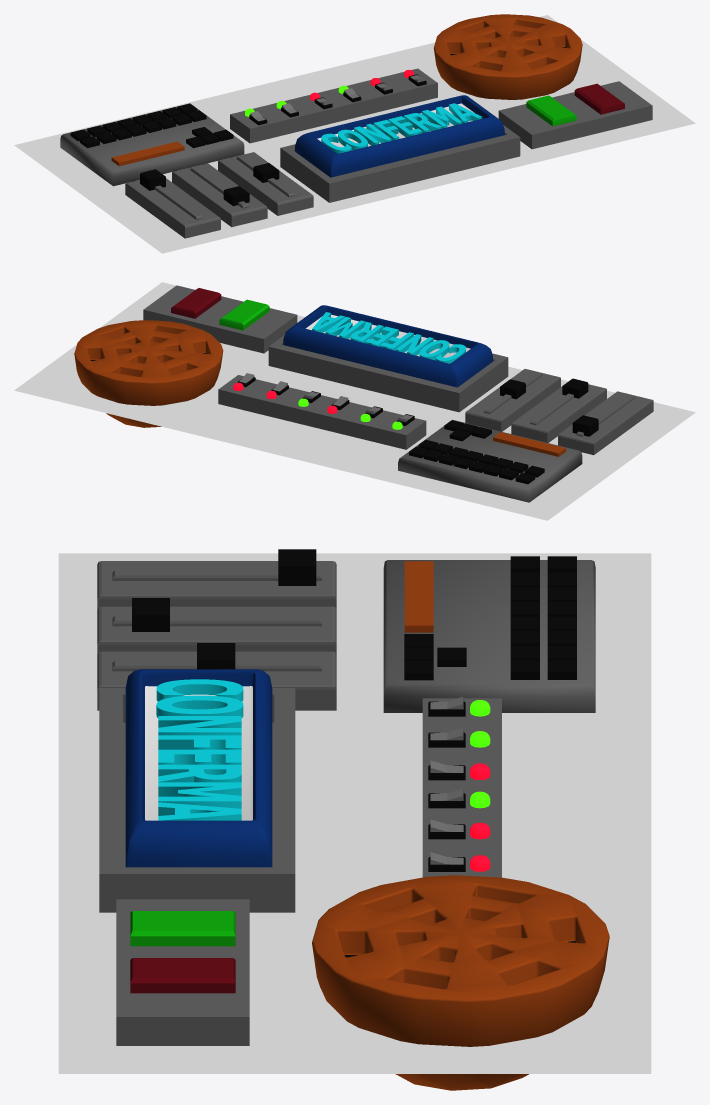
Rendered from PulsantiPannello.fbx.
The picture shows the model from 3 angles, top to bottom: view 1: azimuth 30°, elevation 25°; view 2: azimuth 150°, elevation 25°; view 3: azimuth 270°, elevation 25°; orthographic projection. The views are drawn at different scales.
Visible parts, largest first — view 1: Plane, radio, pulasnte eliminare, tast-radio, pulasnte eliminare.001, tastiera, Text, t-chiave, grado2, grado1, grado1.001, t-chiave.001 (+4 smaller); view 2: Plane, radio, pulasnte eliminare, pulasnte eliminare.001, tastiera, tast-radio, t-chiave, Text, grado2, grado1, grado1.001, t-chiave.001 (+4 smaller); view 3: Plane, radio, tastiera, tast-radio, pulasnte eliminare, pulasnte eliminare.001, Text, grado2, grado1, grado1.001, t-chiave, t-chiave.001 (+4 smaller).
Boxes of the visible parts, x1,y1,x2,y2 form: Plane: (14,15,695,253); radio: (433,14,582,99); pulasnte eliminare: (295,95,504,177); tast-radio: (498,81,652,149); pulasnte eliminare.001: (280,125,520,202); tastiera: (60,103,244,186); Text: (321,103,482,153); t-chiave: (230,91,343,143); grado2: (125,178,220,238); grado1: (172,163,267,227); grado1.001: (218,152,313,215); t-chiave.001: (324,68,437,120); Plane: (14,282,695,520); radio: (74,320,223,427); pulasnte eliminare: (283,305,492,387); pulasnte eliminare.001: (268,335,508,412); tastiera: (398,419,582,502); tast-radio: (143,285,297,353); t-chiave: (312,398,426,449); Text: (312,312,465,363); grado2: (558,391,653,455); grado1: (511,384,606,442); grado1.001: (465,369,560,431); t-chiave.001: (218,375,331,426); Plane: (58,553,651,1073); radio: (312,875,609,1090); tastiera: (383,560,595,712); tast-radio: (116,899,249,1045); pulasnte eliminare: (125,669,272,867); pulasnte eliminare.001: (99,688,295,912); Text: (156,679,243,820); grado2: (97,561,336,609); grado1: (97,606,336,654); grado1.001: (97,651,336,710); t-chiave: (422,698,501,789); t-chiave.001: (422,790,501,877).
Bounding box in the file's own units: 1161 × 168 × 558.
